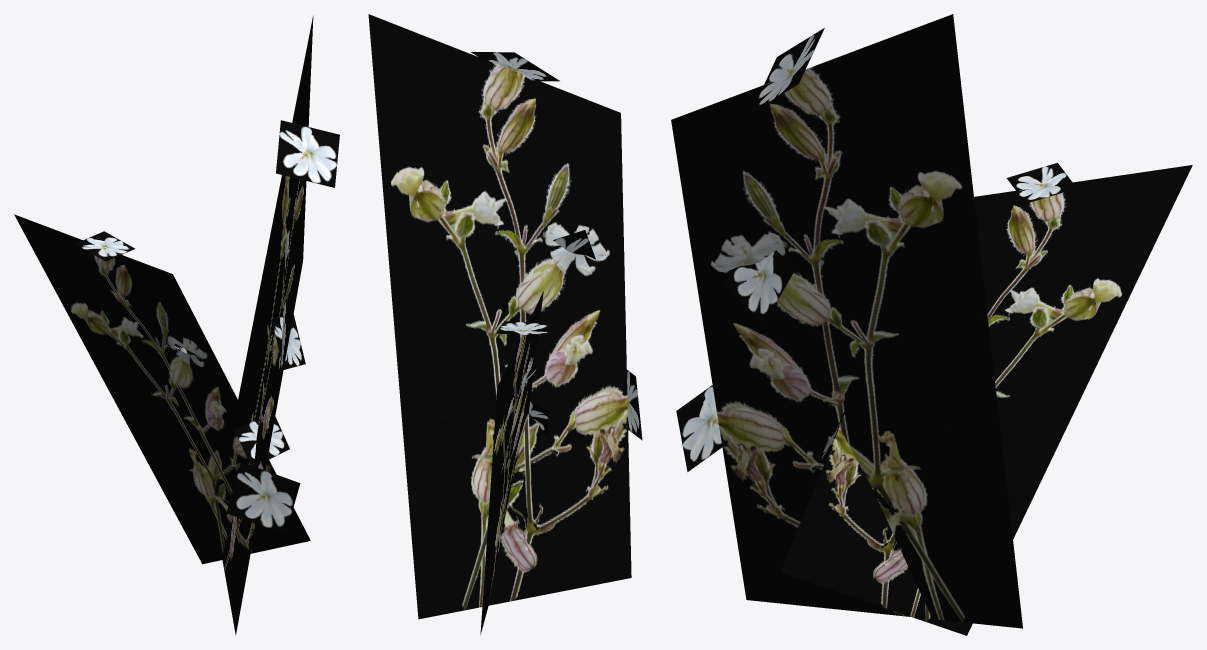
File: 16_Silene_latifolia_small_001.fbx
3 renders of one model, left to right at view 1: azimuth 30°, elevation 25°; view 2: azimuth 150°, elevation 25°; view 3: azimuth 270°, elevation 25°, orthographic. The views are drawn at different scales.
Parts seen in each view (by area): view 1: 16_Silene_latifolia_small.001; view 2: 16_Silene_latifolia_small.001; view 3: 16_Silene_latifolia_small.001.
Boxes of the visible parts, x1,y1,x2,y2 form: 16_Silene_latifolia_small.001: [14, 15, 339, 635]; 16_Silene_latifolia_small.001: [368, 14, 642, 635]; 16_Silene_latifolia_small.001: [671, 14, 1192, 635].
Size of the model in its own units: 0.0994 by 0.2419 by 0.166.
